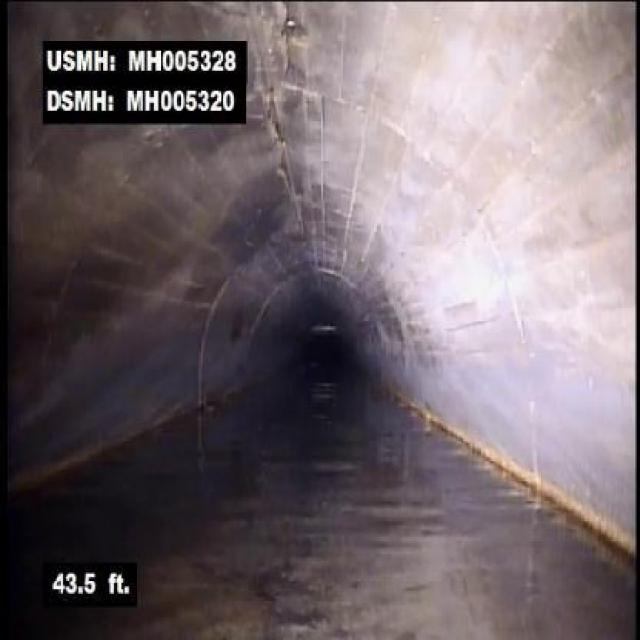Buckling: (258, 88, 298, 189), (274, 0, 311, 86)
